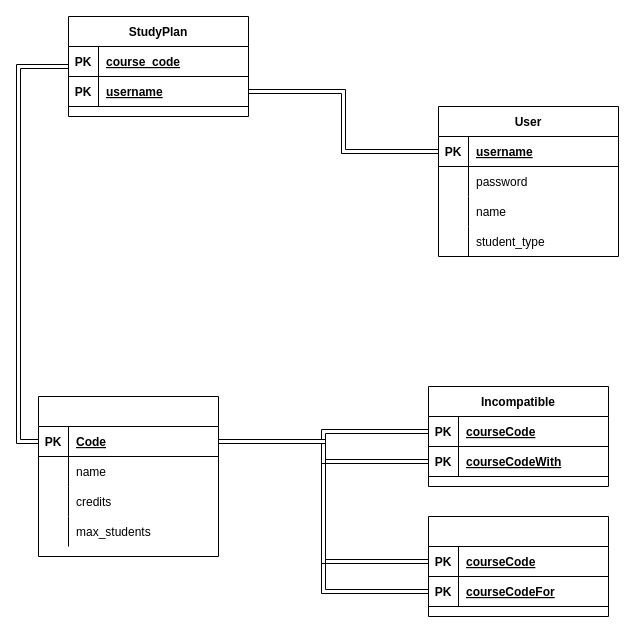
Some shapes in this 635 by 633 pixel diagram are drawn without their labels. Each missing label, with the box of its shape:
Course: (38, 396, 218, 556)
Preparatory: (428, 516, 608, 616)
